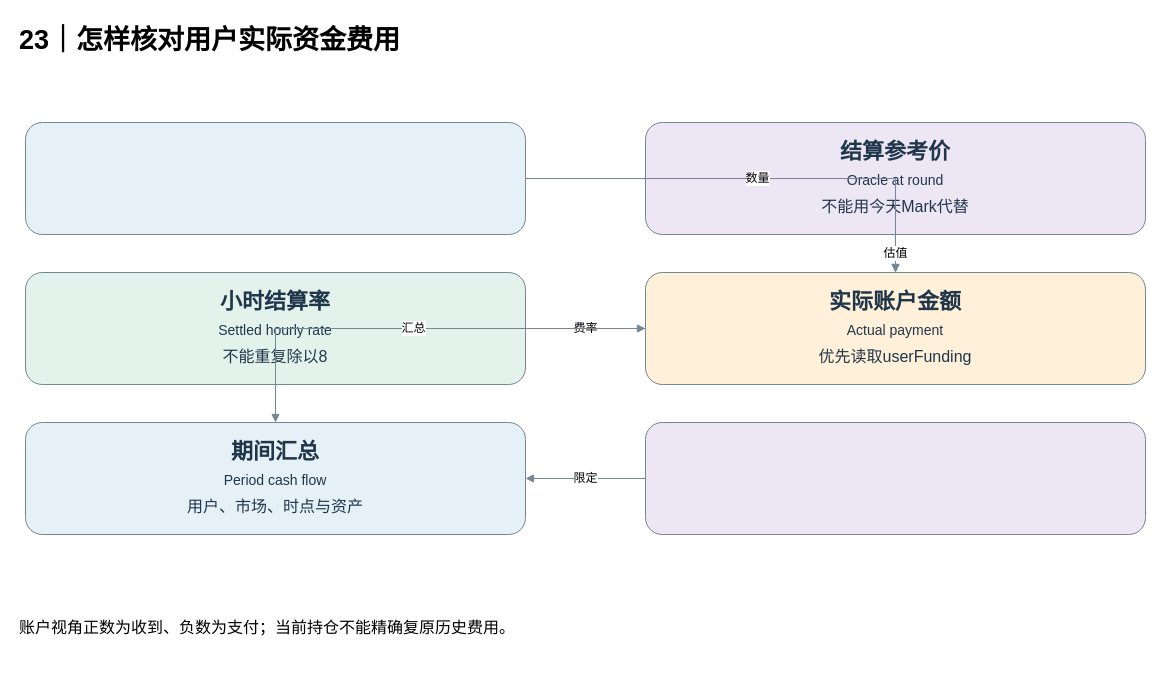
Some shapes in this 1170 by 690 pixel diagram are drawn without their labels. The shapes that lost their labels are listed below. From the top down, each one's centre as x and y in pixels, then its label:
pixel 275 178: 结算前仓位 Position at round 有符号基础数量
pixel 895 478: 覆盖检查 Coverage check 缺行不自动填零
